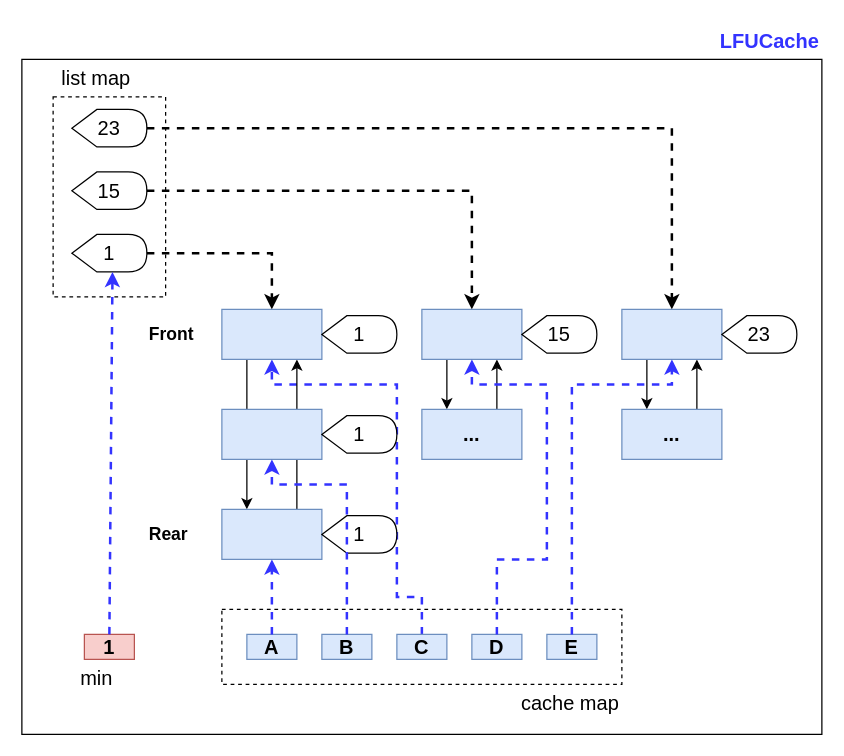
This 844x756 diagram has some shape labels left out. The shapes that lost their labels are listed below. From the top down, each one's centre as x and y in pixels, then its label:
(271,333): (C,C)
(471,333): (D,D)
(671,333): (E,E)
(271,433): (B,B)
(271,533): (A,A)
